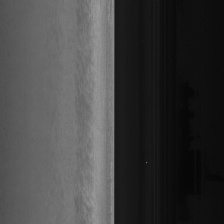silk_spot: (74, 86, 95, 151)
